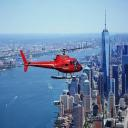helicopter: (20, 37, 85, 81)
